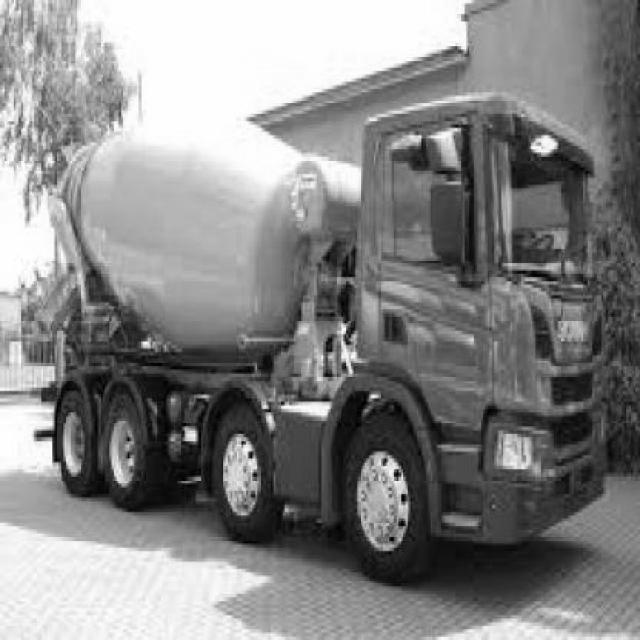Concrete Mixer: (49, 93, 606, 584)
